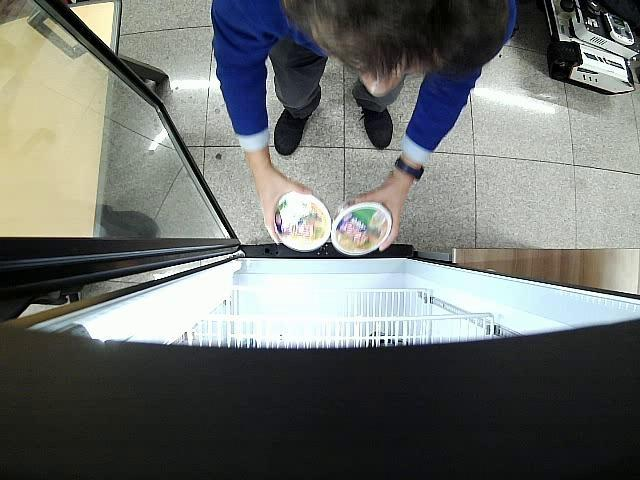09_yukGaeJang: (273, 191, 332, 252), (330, 201, 393, 256)
